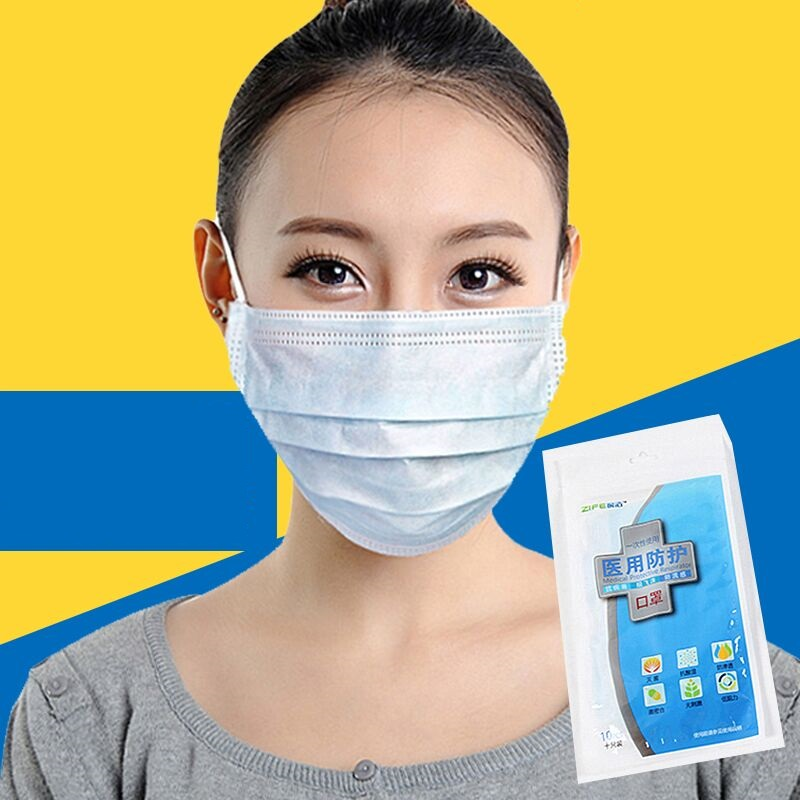face_mask: (235, 88, 561, 533)
